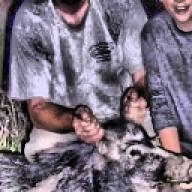boar: (0, 106, 192, 192)
